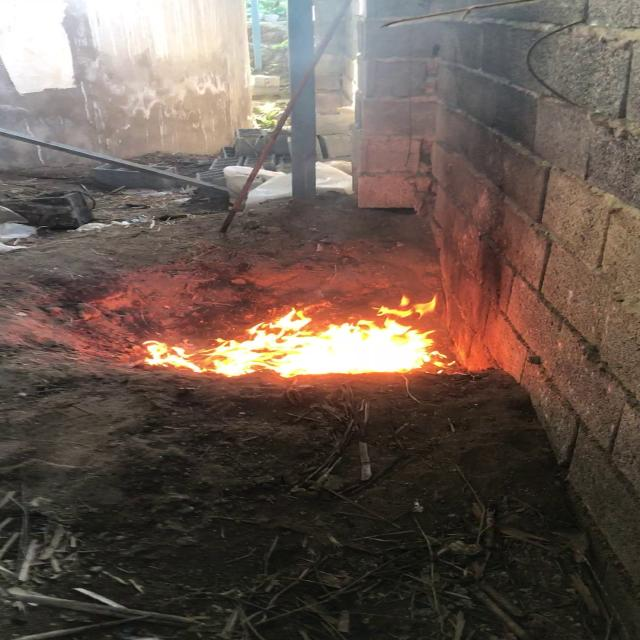fire: (136, 275, 474, 382)
